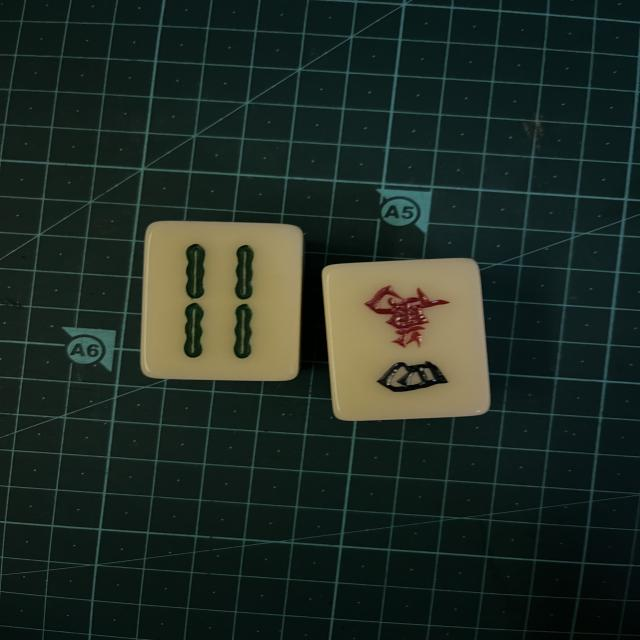m4: (339, 274, 467, 407)
s4: (144, 233, 294, 376)
